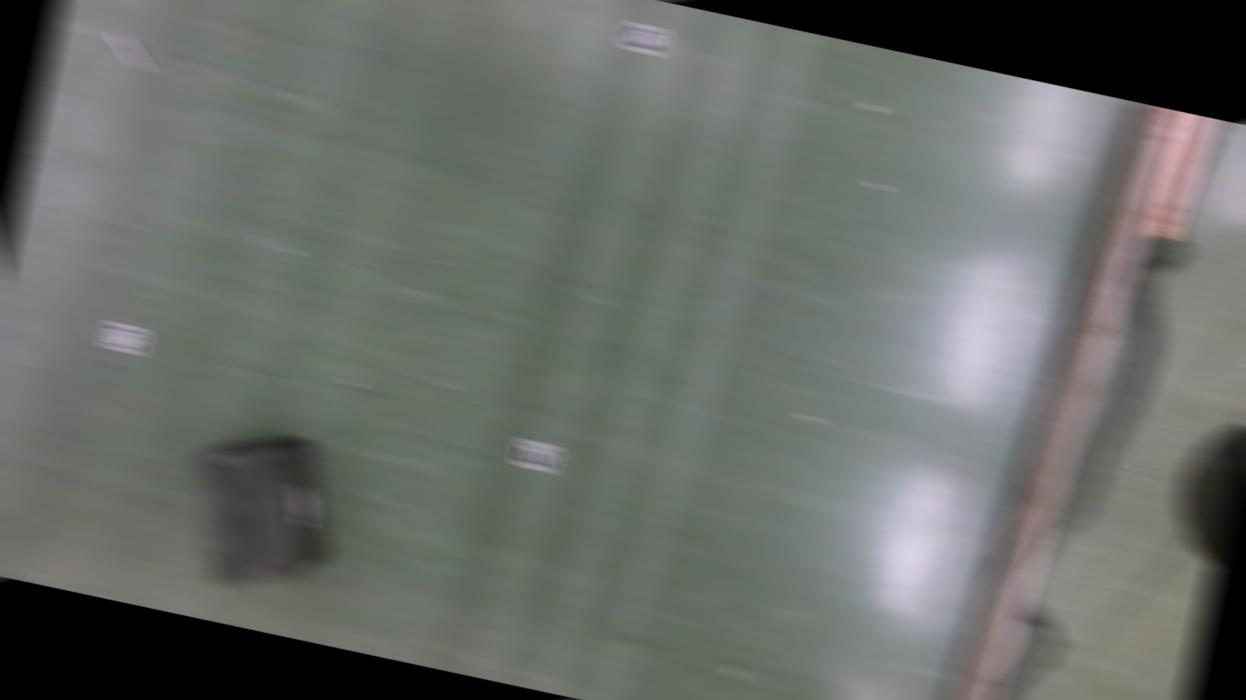probes: (104, 32, 159, 76)
rako: (170, 413, 353, 606)
